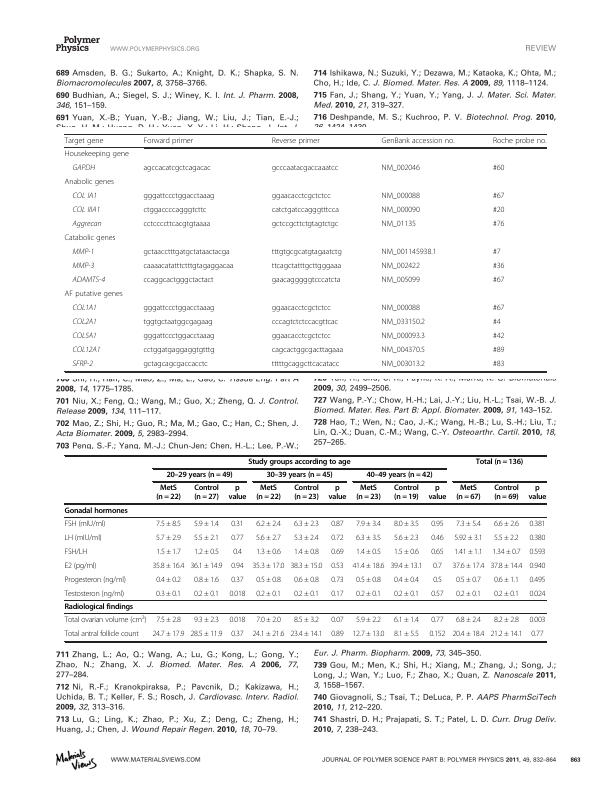borderless: (63, 132, 546, 371), (63, 454, 546, 641)
cell: (247, 458, 351, 467), (142, 261, 234, 271), (64, 614, 147, 625), (142, 247, 231, 257), (142, 191, 215, 201), (142, 303, 215, 313), (142, 331, 215, 341), (142, 345, 215, 355), (271, 345, 344, 355), (271, 247, 343, 257), (142, 275, 214, 285), (142, 317, 214, 327), (271, 261, 342, 271), (142, 163, 212, 173), (271, 275, 341, 285), (271, 205, 340, 215), (142, 219, 211, 229), (271, 359, 340, 369), (265, 471, 334, 481), (64, 630, 140, 639), (271, 163, 339, 173), (271, 219, 339, 229), (271, 317, 339, 327), (165, 471, 233, 481), (365, 471, 433, 481), (381, 136, 456, 145), (142, 359, 209, 369), (64, 149, 130, 159), (142, 205, 207, 215), (64, 506, 129, 516), (64, 575, 127, 585), (64, 603, 134, 612), (271, 191, 332, 201), (63, 289, 124, 299), (271, 303, 332, 313), (271, 331, 332, 341), (64, 589, 125, 599), (381, 247, 437, 257), (64, 233, 116, 243), (155, 484, 182, 503), (193, 484, 220, 503), (255, 484, 282, 503), (293, 484, 320, 503), (355, 484, 382, 503), (393, 484, 420, 503), (455, 484, 482, 503), (493, 484, 520, 503), (64, 177, 115, 187), (492, 136, 547, 145), (142, 136, 194, 145), (381, 317, 426, 327), (381, 331, 426, 341), (381, 345, 426, 355), (381, 359, 426, 369), (271, 136, 320, 145), (475, 458, 524, 467), (64, 519, 106, 529), (381, 163, 421, 173), (381, 191, 421, 201), (381, 205, 421, 215), (381, 261, 421, 271), (381, 275, 421, 285), (381, 303, 421, 313), (64, 533, 103, 543), (327, 484, 347, 503), (427, 484, 447, 503), (527, 484, 547, 503), (228, 484, 247, 503), (64, 136, 104, 145), (381, 219, 417, 229), (151, 561, 185, 571), (189, 561, 223, 571), (251, 561, 285, 571), (289, 561, 323, 571), (351, 561, 385, 571), (389, 561, 423, 571), (451, 561, 485, 571), (489, 561, 523, 571), (64, 561, 97, 571), (71, 275, 106, 284), (71, 219, 102, 229), (453, 547, 484, 557), (491, 547, 522, 557), (151, 630, 185, 639), (189, 630, 223, 639), (251, 630, 285, 639), (289, 630, 323, 639), (351, 630, 385, 639), (451, 630, 485, 639), (489, 630, 523, 639), (71, 205, 101, 215), (453, 533, 483, 543), (71, 191, 98, 201), (71, 345, 101, 354), (155, 519, 182, 529), (193, 519, 220, 529), (255, 519, 282, 529), (293, 519, 320, 529), (355, 519, 382, 529), (393, 519, 420, 529), (455, 519, 482, 529), (493, 519, 520, 529), (155, 533, 182, 543), (193, 533, 220, 543), (255, 533, 282, 543), (293, 533, 320, 543), (355, 533, 382, 543), (393, 533, 420, 543), (493, 533, 520, 543), (155, 547, 182, 557), (193, 547, 220, 557), (255, 547, 282, 557), (293, 547, 320, 557), (355, 547, 382, 557), (393, 547, 420, 557), (155, 575, 182, 585), (193, 575, 220, 585), (255, 575, 282, 585), (293, 575, 320, 585), (355, 575, 382, 585), (393, 575, 420, 585), (455, 575, 482, 585), (493, 575, 520, 585), (155, 589, 182, 599), (193, 589, 220, 599), (255, 589, 282, 599), (293, 589, 320, 599), (355, 589, 382, 599), (393, 589, 420, 599), (455, 589, 482, 599), (493, 589, 520, 599), (71, 163, 96, 173), (71, 303, 98, 312), (71, 317, 98, 326), (71, 331, 98, 340), (155, 616, 182, 625), (193, 616, 220, 625), (255, 616, 282, 625), (293, 616, 320, 625), (355, 616, 382, 625), (393, 616, 420, 625), (455, 616, 482, 625), (493, 616, 520, 625), (393, 630, 420, 639), (64, 547, 88, 557), (71, 247, 95, 256), (71, 261, 95, 270), (71, 359, 94, 368), (528, 519, 546, 529), (528, 533, 546, 543), (528, 547, 546, 557), (528, 561, 546, 571), (528, 575, 546, 585), (228, 589, 246, 599), (528, 589, 546, 599), (228, 616, 246, 625), (528, 616, 546, 625), (428, 630, 446, 639), (230, 519, 245, 529), (330, 519, 345, 529), (330, 547, 345, 557), (430, 547, 445, 557), (330, 561, 345, 571), (230, 575, 245, 585), (330, 575, 345, 585), (330, 589, 345, 599), (430, 519, 444, 529), (230, 533, 244, 543), (330, 533, 344, 543), (430, 533, 444, 543), (230, 561, 244, 571), (430, 589, 444, 599), (330, 616, 345, 625), (330, 630, 345, 639), (492, 163, 505, 173), (492, 191, 505, 201), (492, 205, 505, 215), (492, 219, 505, 229), (492, 261, 505, 271), (492, 275, 505, 285), (492, 303, 505, 313), (492, 331, 505, 341), (492, 345, 505, 355), (492, 359, 505, 369), (430, 616, 444, 625), (230, 630, 244, 639), (530, 630, 544, 639), (232, 547, 243, 557), (432, 561, 443, 571), (432, 575, 443, 585), (492, 247, 501, 257), (492, 317, 501, 327)
